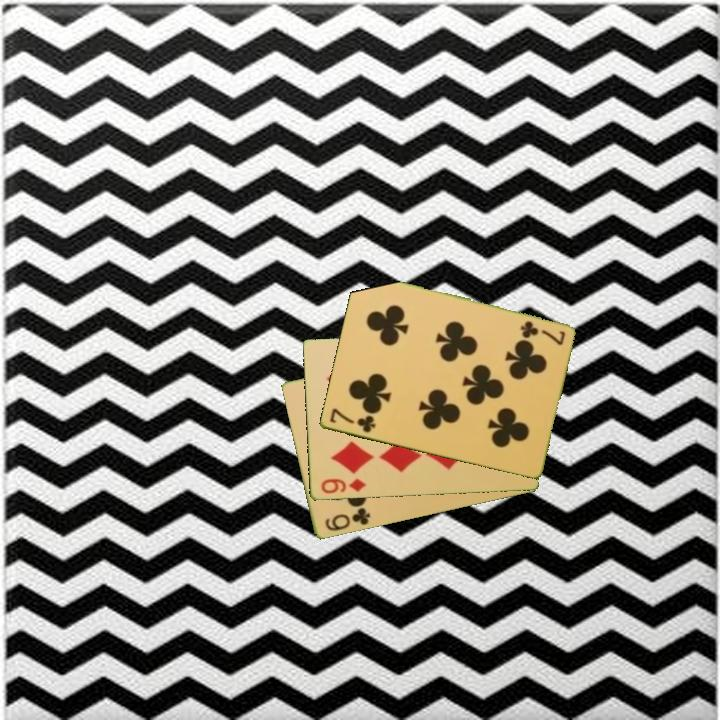6c: (321, 504, 373, 534)
7c: (326, 405, 378, 436), (516, 317, 568, 346)
9d: (317, 475, 369, 497)
